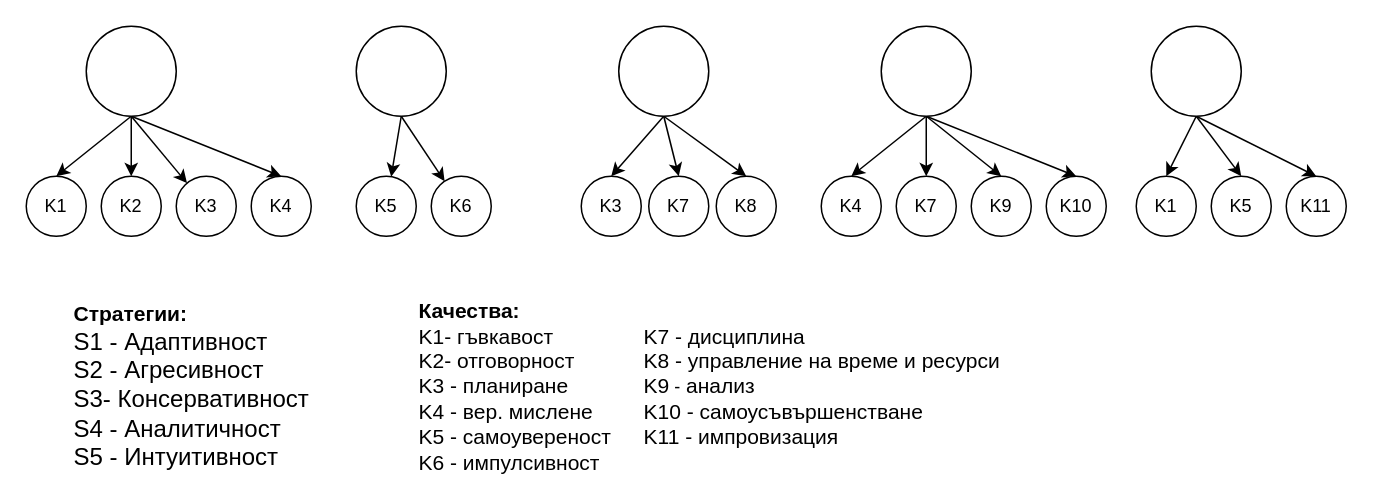
The diagram is 1373 pixels wide and 503 high, and some of its shapes have lost their labels. The shapes that lost their labels are listed below. From the top down, each one's centre as x and y in pixels, then its label:
At (x=130, y=70): "S1".
At (x=400, y=70): "S2".
At (x=663, y=70): "S3".
At (x=925, y=70): "S4".
At (x=1195, y=70): "S5".
